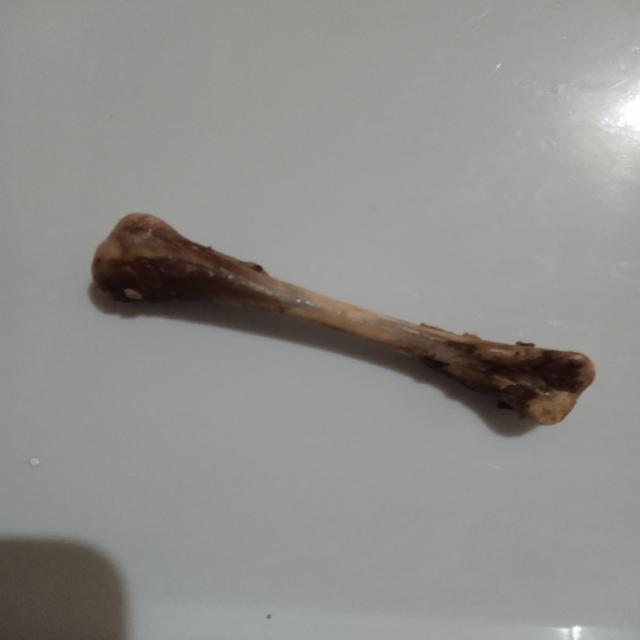bone: (83, 201, 598, 436)
